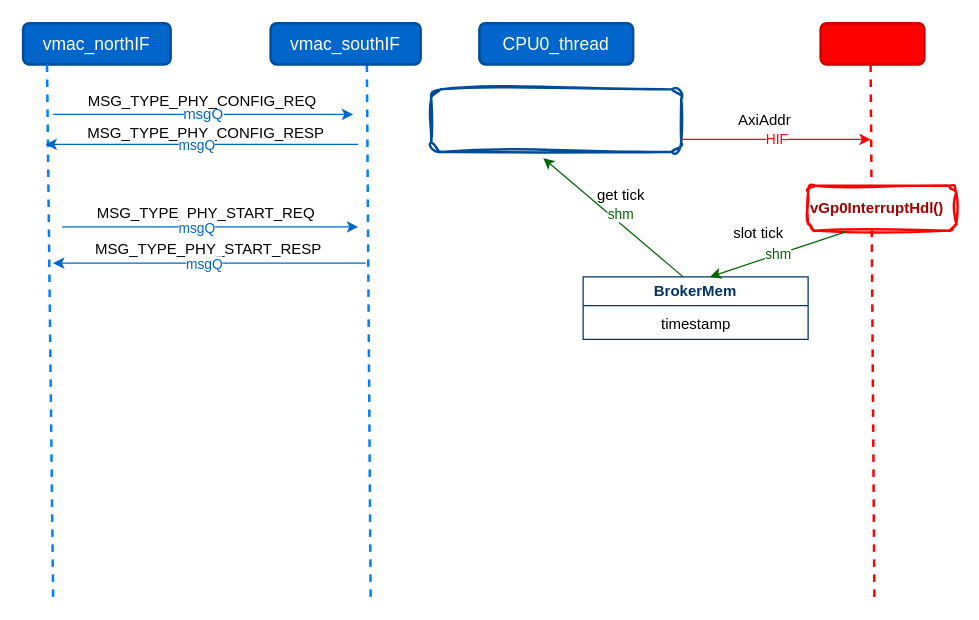
The diagram is 979 pixels wide and 620 high, and some of its shapes have lost their labels. The shapes that lost their labels are listed below. From the top down, each one's box as (x1, y1, x2, y2) in pixels, then its label:
(819, 21, 925, 65): TBGen
(429, 88, 682, 152): tickEvent_runningLoop _softtick_busyloop_from_e200()
